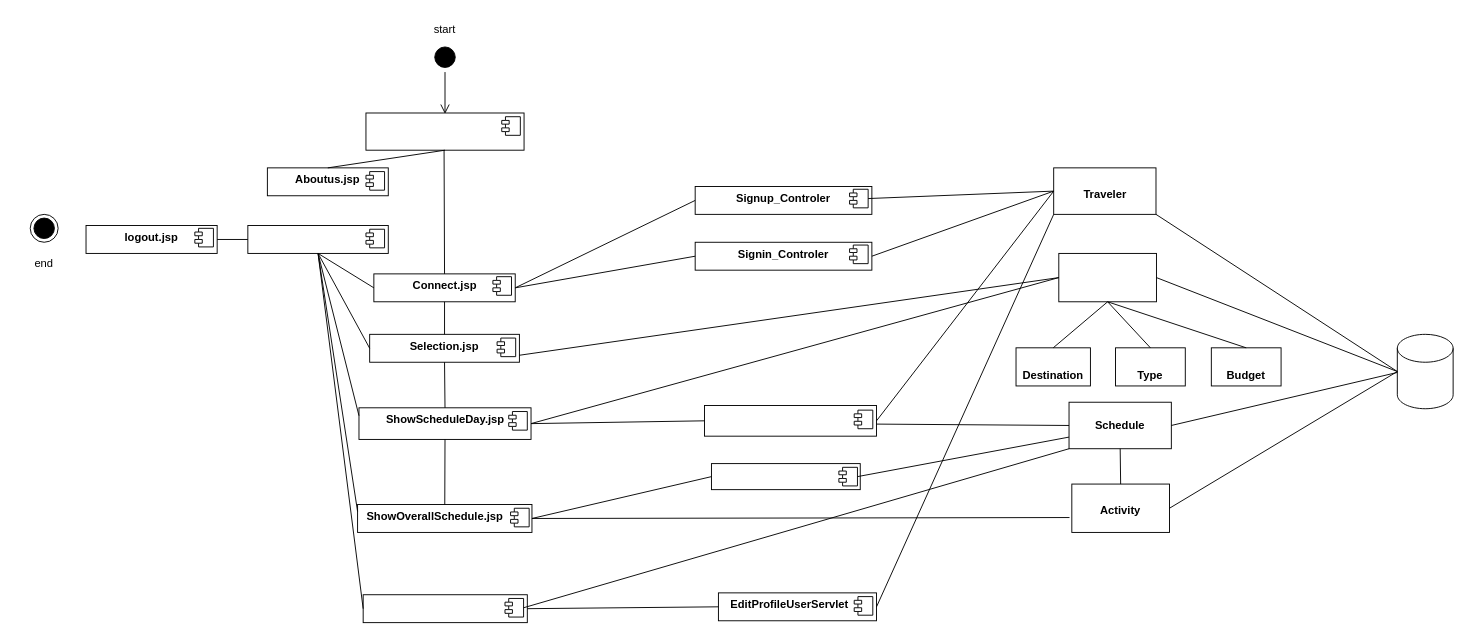
This 1469x639 diagram has some shape labels left out. Each missing label, with the box of its shape:
Authentication.jsp: (247, 225, 388, 253)
CatalogService: (1058, 252, 1156, 302)
CreationScheduleServlet: (704, 405, 877, 436)
Database: (1396, 333, 1453, 409)
EditProfile.jsp: (362, 594, 527, 623)
FeedbackServlet: (711, 463, 860, 490)
Home.jsp: (365, 112, 524, 150)
